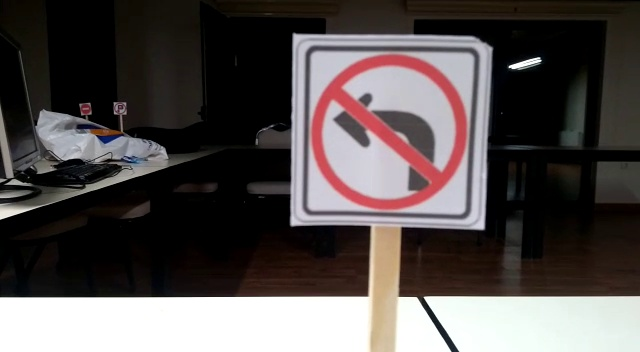sola_donulmez: (291, 37, 487, 219)
